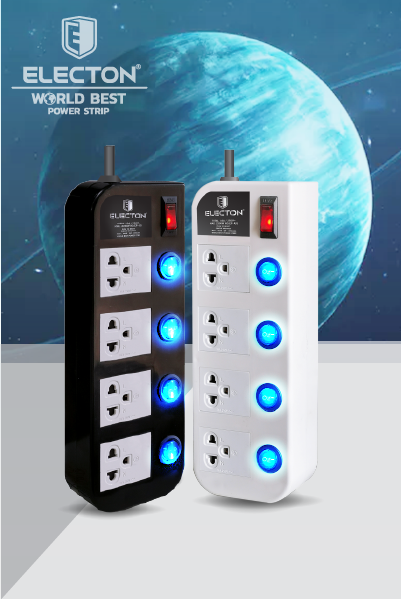Three_eye_plug: (181, 176, 328, 508), (57, 170, 192, 517)
